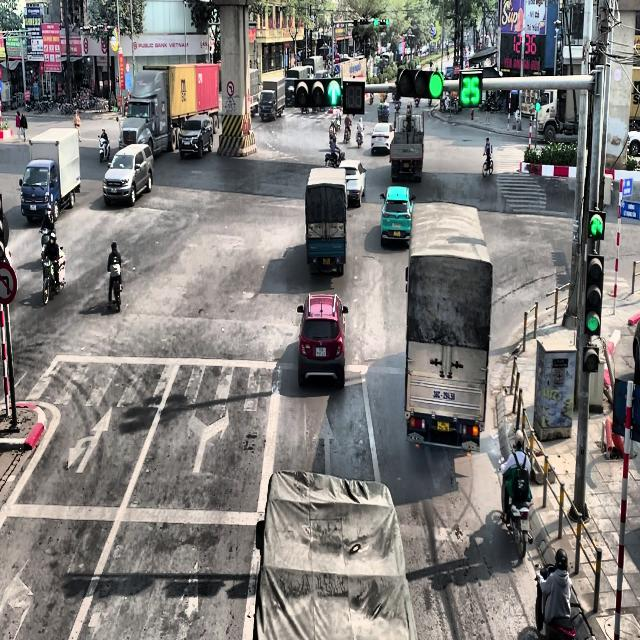lisence_plate: (432, 388, 458, 404), (435, 419, 450, 433), (314, 345, 326, 358), (321, 256, 331, 267), (392, 228, 402, 238), (401, 149, 414, 153), (403, 162, 409, 168)
